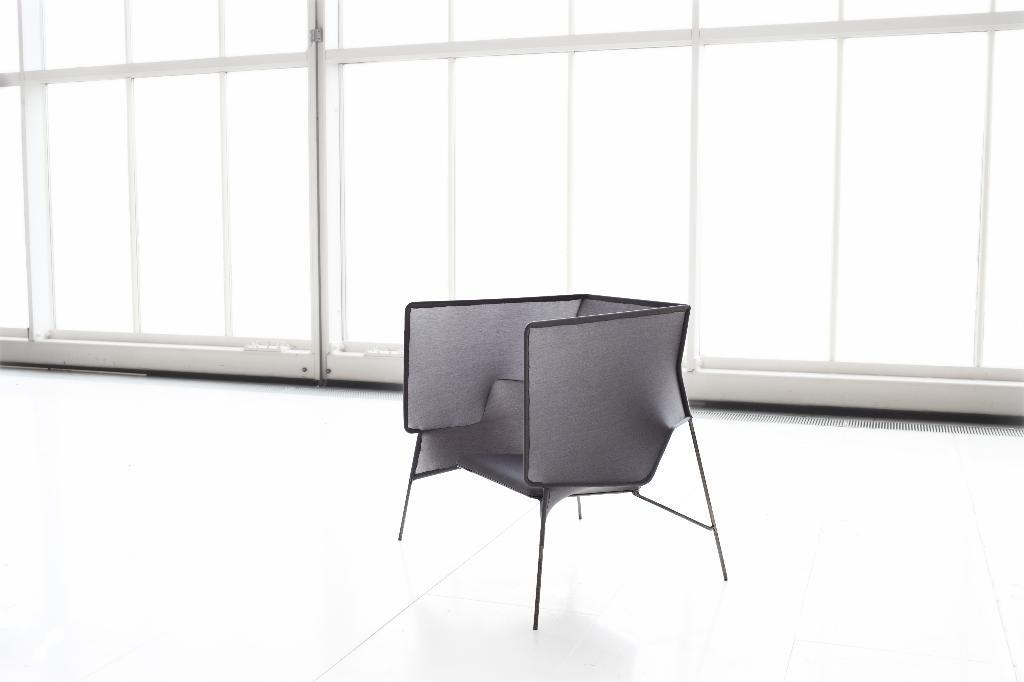Chair: (397, 270, 735, 649)
